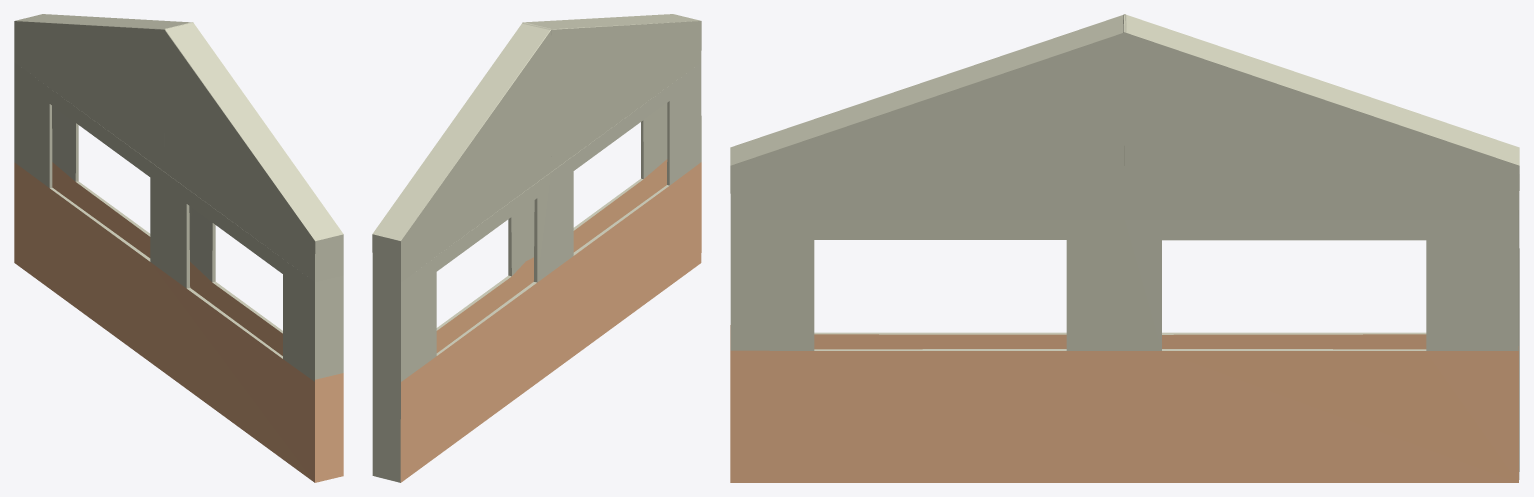
The model's file is pared2.glb.
The picture shows the model from 3 angles, left to right: view 1: azimuth 30°, elevation 25°; view 2: azimuth 150°, elevation 25°; view 3: azimuth 270°, elevation 25°; orthographic projection. The views are drawn at different scales.
Parts seen in each view (by area): view 1: pared vertical 1; view 2: pared vertical 1; view 3: pared vertical 1.
Part boxes in pixels (x1,y1,x2,y2): pared vertical 1: (14,14,343,482); pared vertical 1: (372,14,701,482); pared vertical 1: (730,14,1519,482).
Size of the model in its own units: 7.32 by 83.22 by 132.
